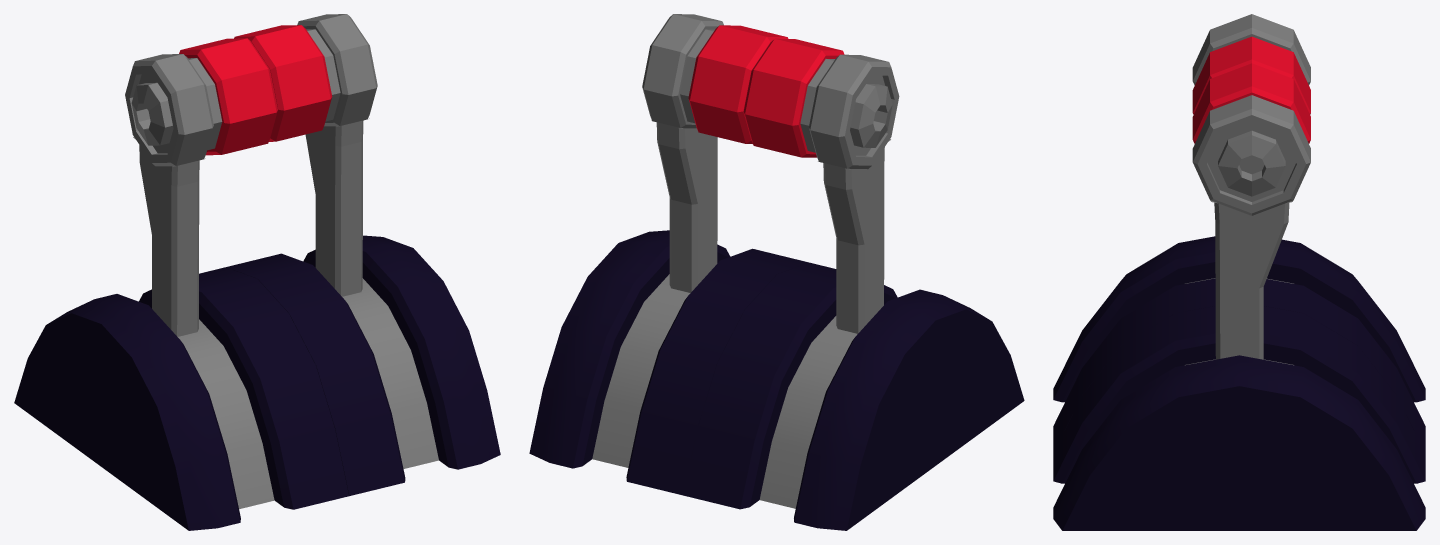
Rendered from GenericLever.fbx.
3 renders of one model, left to right at view 1: azimuth 30°, elevation 25°; view 2: azimuth 150°, elevation 25°; view 3: azimuth 270°, elevation 25°, orthographic.
Parts seen in each view (by area): view 1: GenericLeverBase.001, GenericLeverBase, GenericLever.001, GenericLever; view 2: GenericLeverBase.001, GenericLeverBase, GenericLever.001, GenericLever; view 3: GenericLeverBase, GenericLever, GenericLeverBase.001, GenericLever.001.
Boxes of the visible parts, left/top/right/bottom form: GenericLeverBase.001: left=14, top=267, right=348, bottom=530; GenericLeverBase: left=226, top=235, right=500, bottom=495; GenericLever.001: left=125, top=38, right=277, bottom=336; GenericLever: left=234, top=14, right=377, bottom=296; GenericLeverBase.001: left=683, top=262, right=1024, bottom=530; GenericLeverBase: left=529, top=230, right=808, bottom=495; GenericLever.001: left=743, top=38, right=899, bottom=333; GenericLever: left=642, top=14, right=788, bottom=292; GenericLeverBase: left=1053, top=306, right=1425, bottom=530; GenericLever: left=1192, top=63, right=1310, bottom=359; GenericLeverBase.001: left=1053, top=236, right=1425, bottom=452; GenericLever.001: left=1192, top=14, right=1310, bottom=114.
Size of the model in its own units: 0.2197 by 0.2153 by 0.2554.
